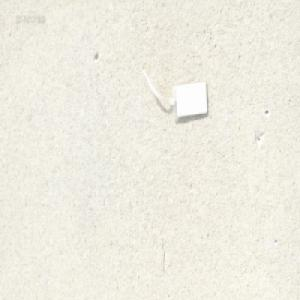LuggageTag: (140, 64, 209, 122)
